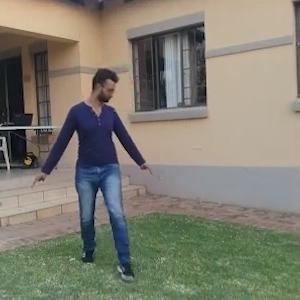land: (36, 62, 169, 289)
